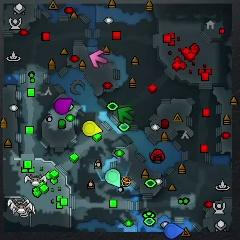p1: (163, 223, 184, 239)
p2: (105, 169, 121, 187)
p3: (54, 98, 72, 114)
p4: (82, 121, 103, 137)
x1: (90, 50, 107, 67)
x4: (117, 107, 135, 123)
